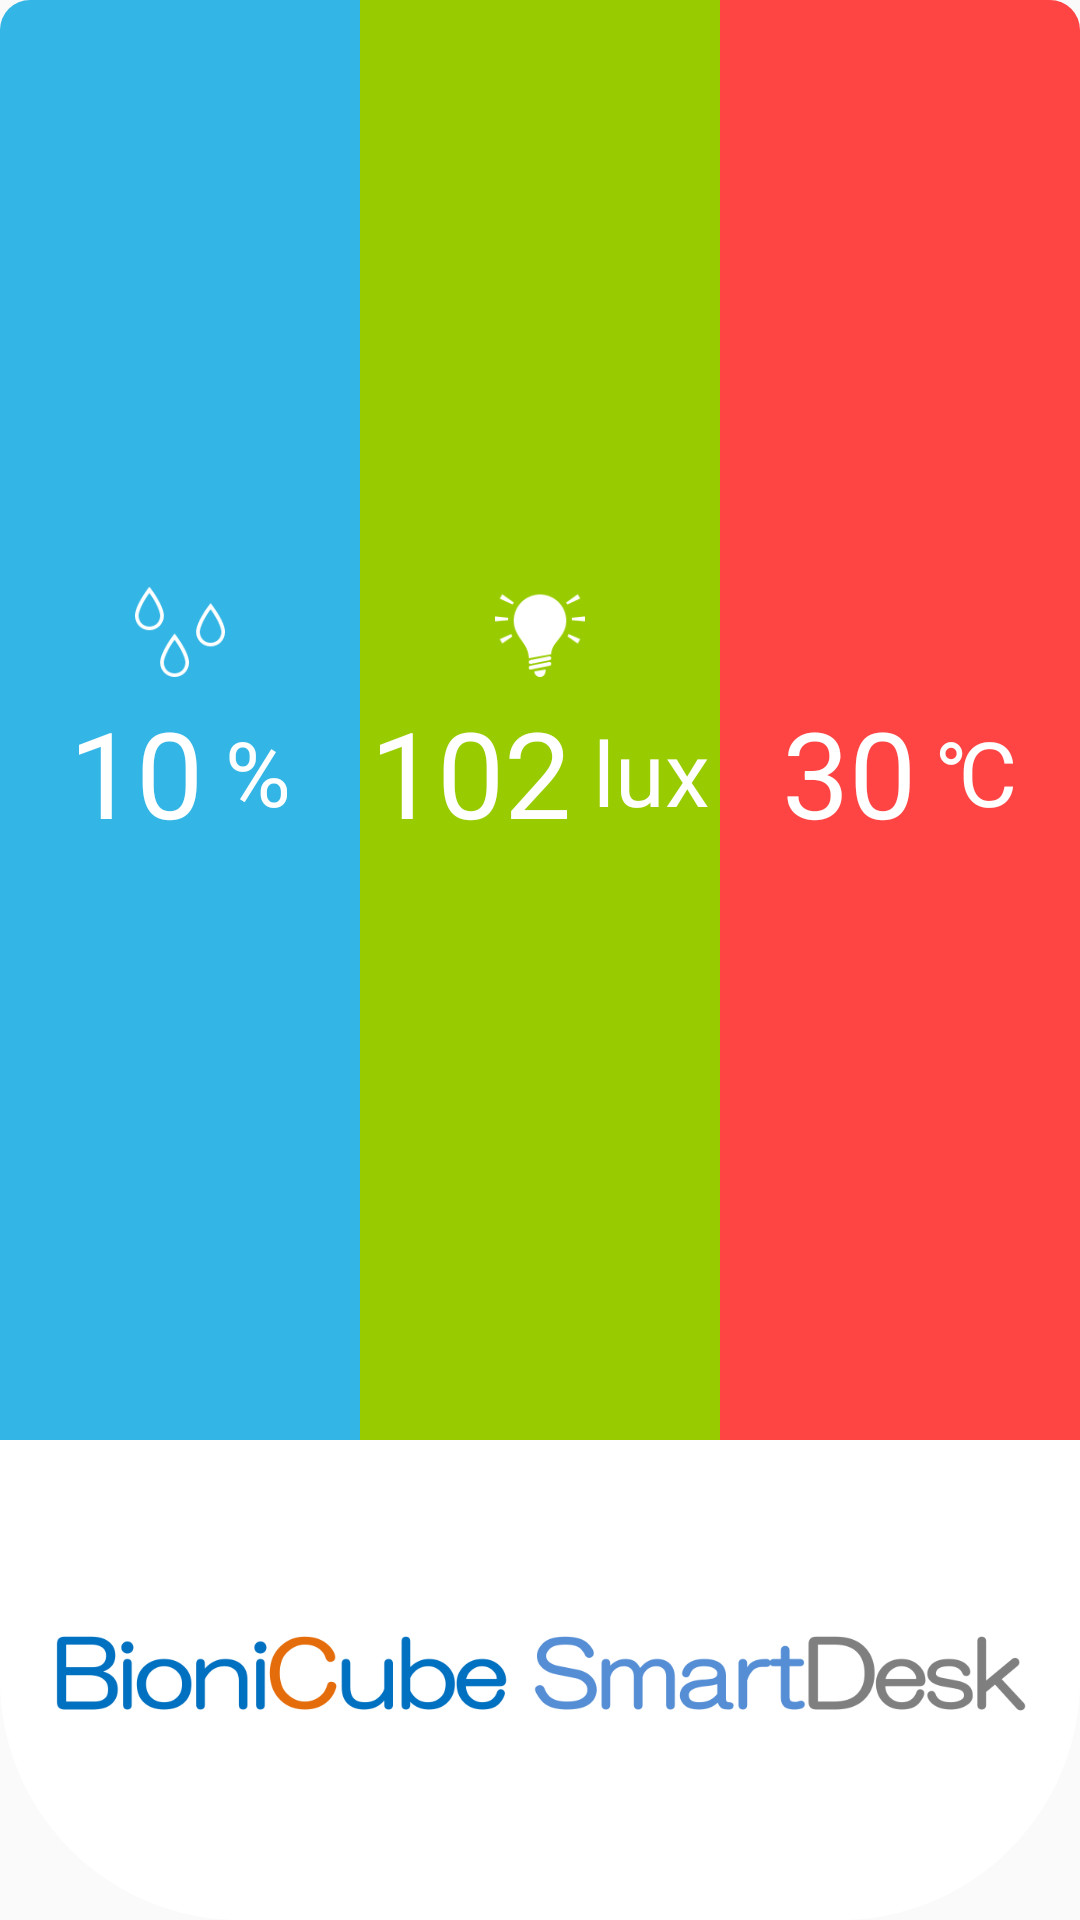

Icons on this 1080w x 1920h Android screen, each with the point to tap as point (x, y):
humidity: point (180, 632)
